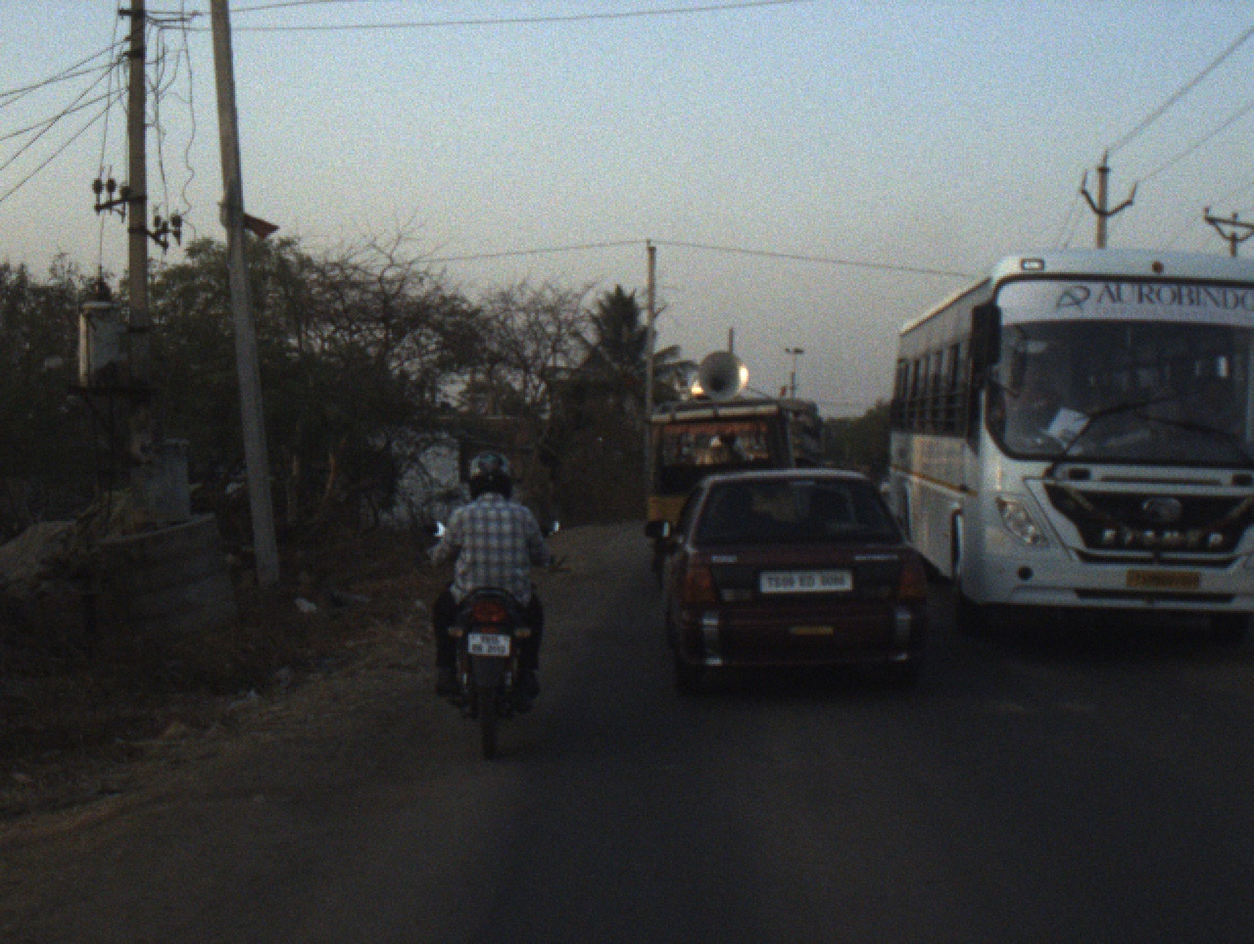autorickshaw: (641, 349, 796, 553)
bus: (885, 245, 1241, 629)
car: (631, 467, 922, 687)
motorcycle: (421, 512, 563, 766)
rider: (423, 447, 556, 715)
vehicle fallback: (775, 391, 829, 473)
